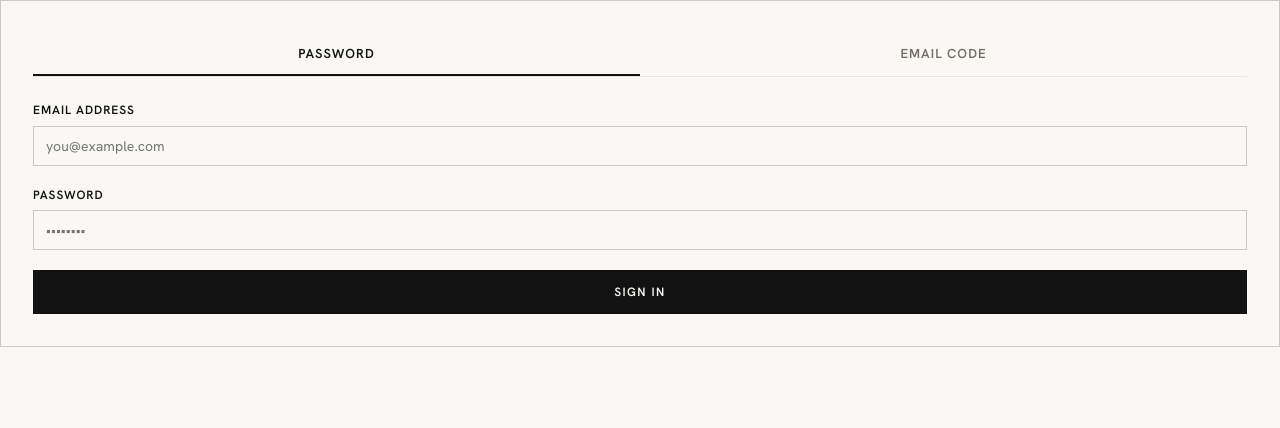
Test: SignInForm Component › displays error banner on password authentication failure
Type "user@example.com" into the field with test id "signin-email-input" at (640, 146), box [33, 126, 1247, 166]
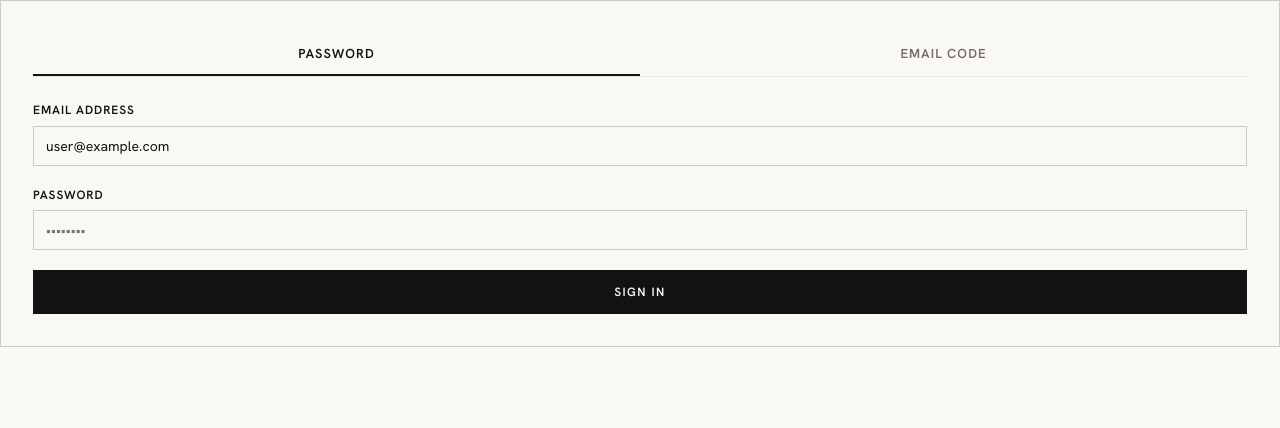
Type "WrongPass" into the password field with test id "signin-password-input" at (640, 230), box [33, 210, 1247, 250]
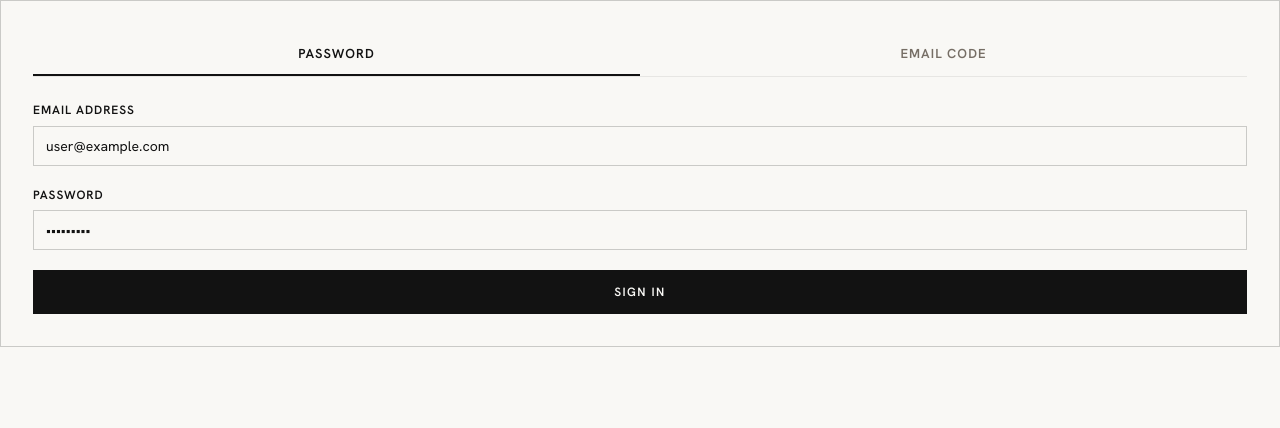
Click the button with test id "signin-submit-btn" at (640, 292), box [33, 270, 1247, 314]
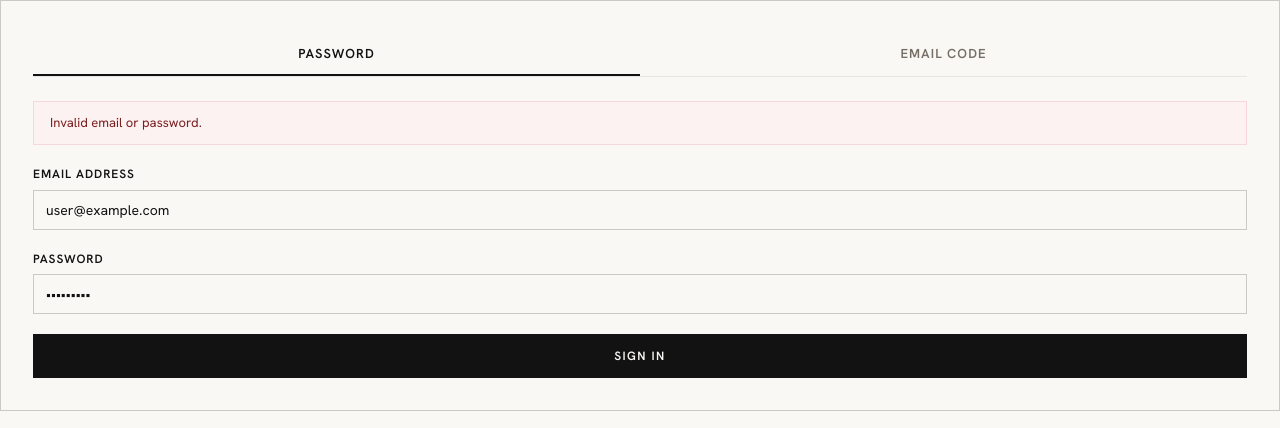
Expected: the message "Invalid email or password." is shown, [33, 101, 1247, 145]
Expected: the message with test id "signin-error" reads "Invalid email or password.", [50, 114, 202, 131]
